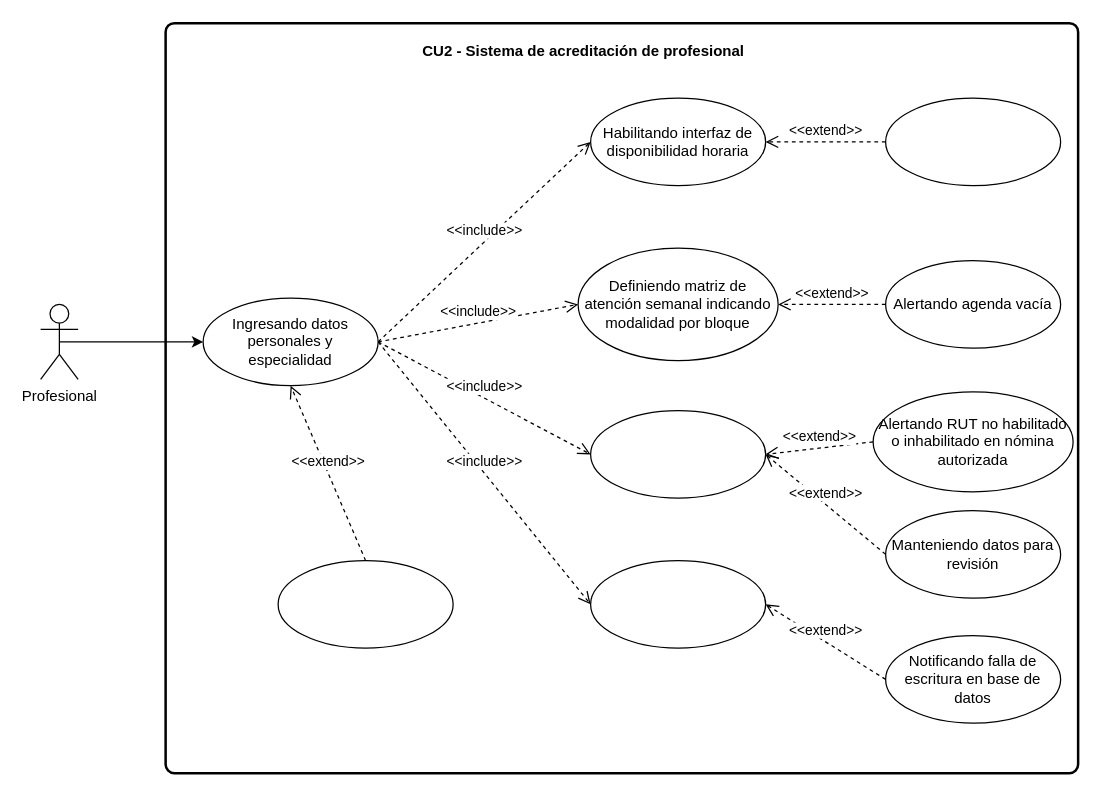
Image size: 1100x795. Some labels were removed from this diagram. Each missing label, with the centre of its shape:
"Bloqueando entrada de datos fuera de la máscara numérica" belongs at pixel 365 603.
"Confirmando y solicitando creación de perfil" belongs at pixel 677 453.
"Notificando tiempo de espera agotado" belongs at pixel 972 141.
"Persistiendo perfil en base de datos" belongs at pixel 677 603.
